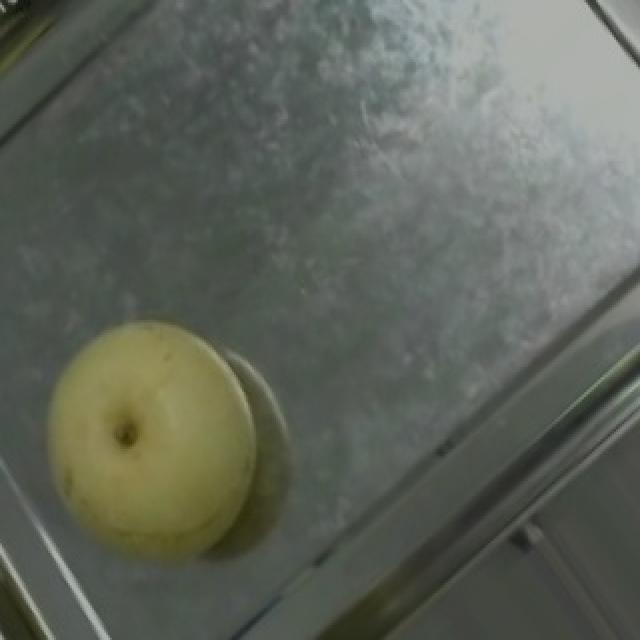Fruit: (0, 280, 304, 608)
